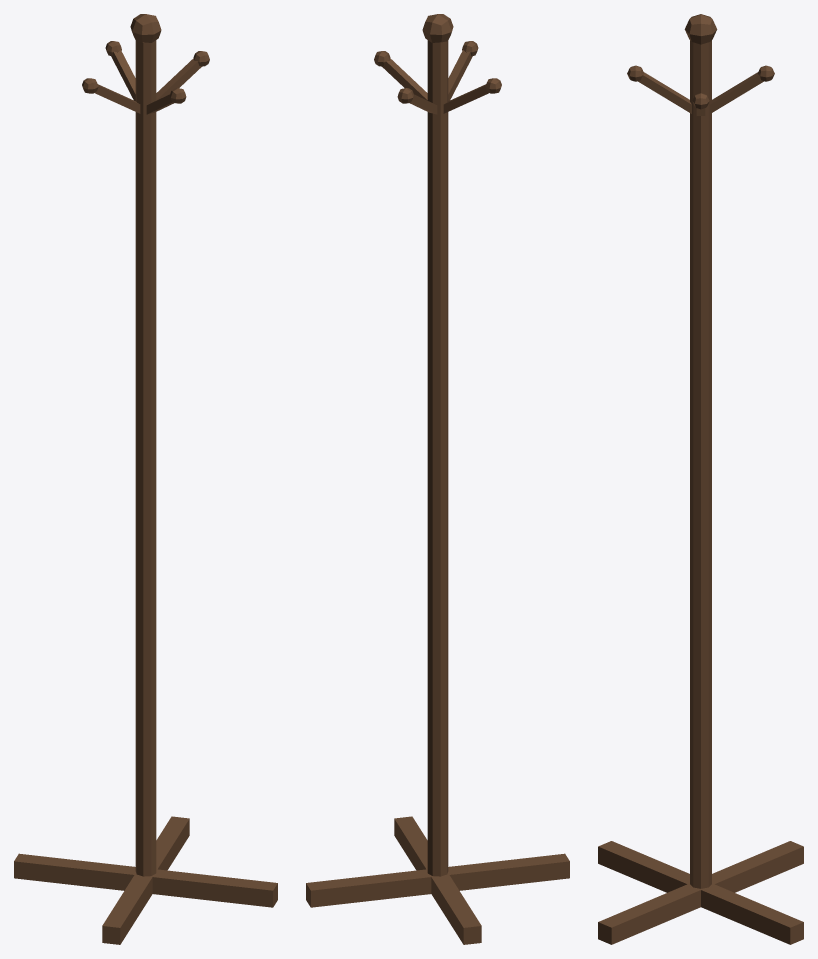
Rendered from Perchero.fbx.
The picture shows the model from 3 angles, left to right: view 1: azimuth 30°, elevation 25°; view 2: azimuth 150°, elevation 25°; view 3: azimuth 270°, elevation 25°; orthographic projection.
Parts seen in each view (by area): view 1: Deco_Perchero; view 2: Deco_Perchero; view 3: Deco_Perchero.
Part boxes in pixels (left/top/right/bottom): Deco_Perchero: left=14, top=14, right=277, bottom=944; Deco_Perchero: left=306, top=14, right=569, bottom=944; Deco_Perchero: left=598, top=14, right=803, bottom=944.
Size of the model in its own units: 0.3783 by 1.8 by 0.3783.
